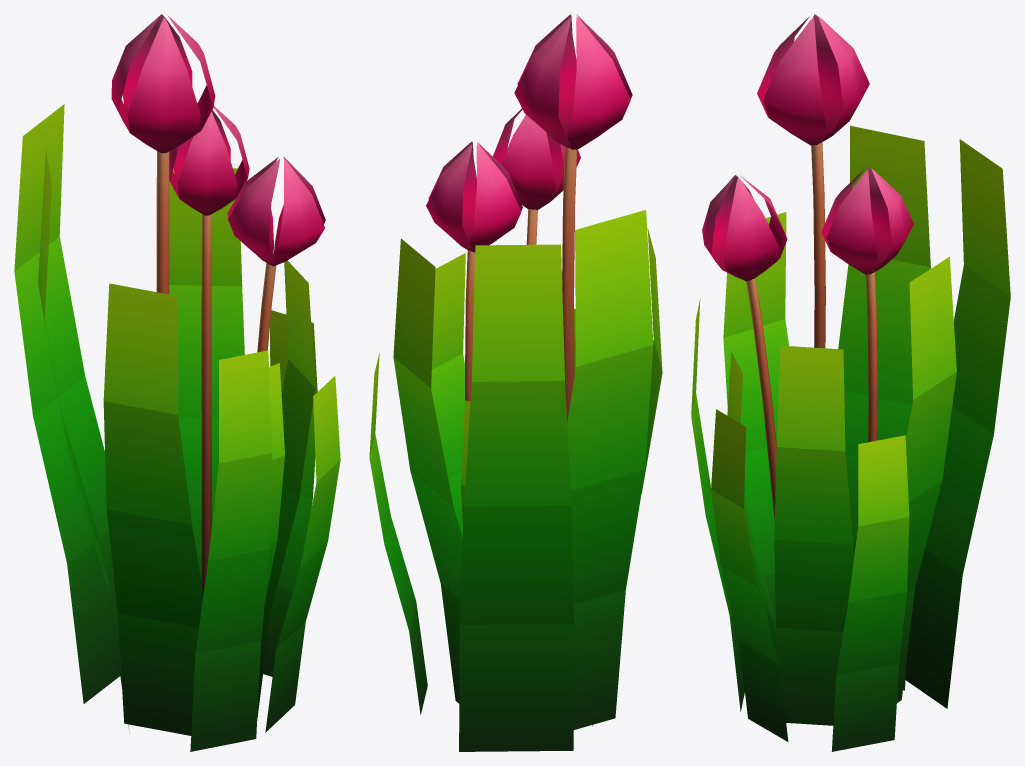
File: flower (19).fbx
3 views of the same model, side by side, from view 1: azimuth 30°, elevation 25°; view 2: azimuth 150°, elevation 25°; view 3: azimuth 270°, elevation 25° (orthographic). The views are drawn at different scales.
Visible parts, largest first — view 1: 19_f10; view 2: 19_f10; view 3: 19_f10.
Part boxes in pixels (x1,y1,x2,y2): 19_f10: (14,14,340,751); 19_f10: (369,14,662,751); 19_f10: (691,14,1010,751).
Size of the model in its own units: 60.67 by 148 by 63.63.
